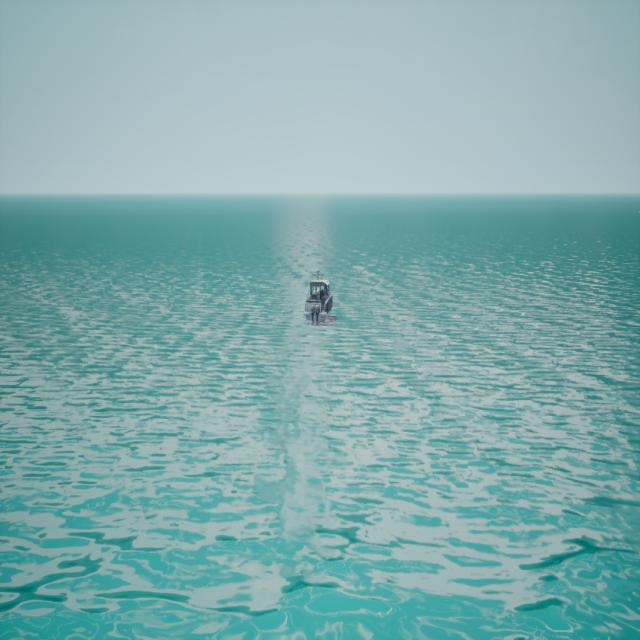ship: (305, 271, 333, 326)
